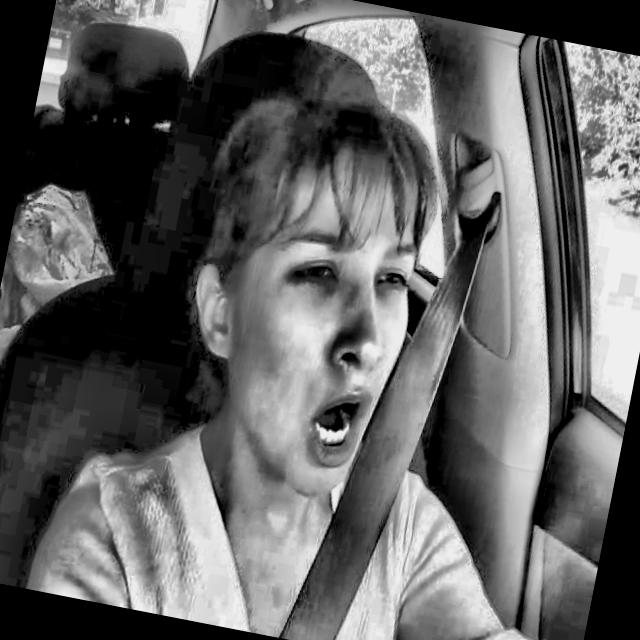open_eyes: (282, 249, 354, 310), (365, 253, 415, 305)
open_mouth: (278, 373, 386, 478)
